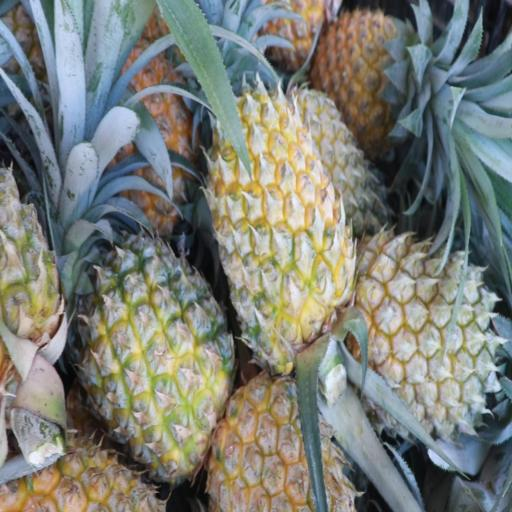------------------------------: (70, 220, 240, 488)
Pineapple - v8 v1: (200, 32, 358, 380), (352, 222, 508, 443), (308, 4, 447, 164)
